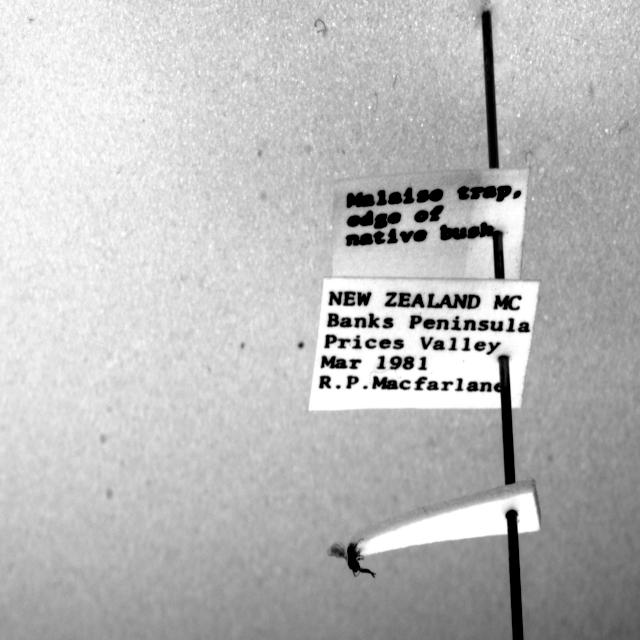typed_label: (309, 278, 539, 411), (332, 169, 529, 279)
